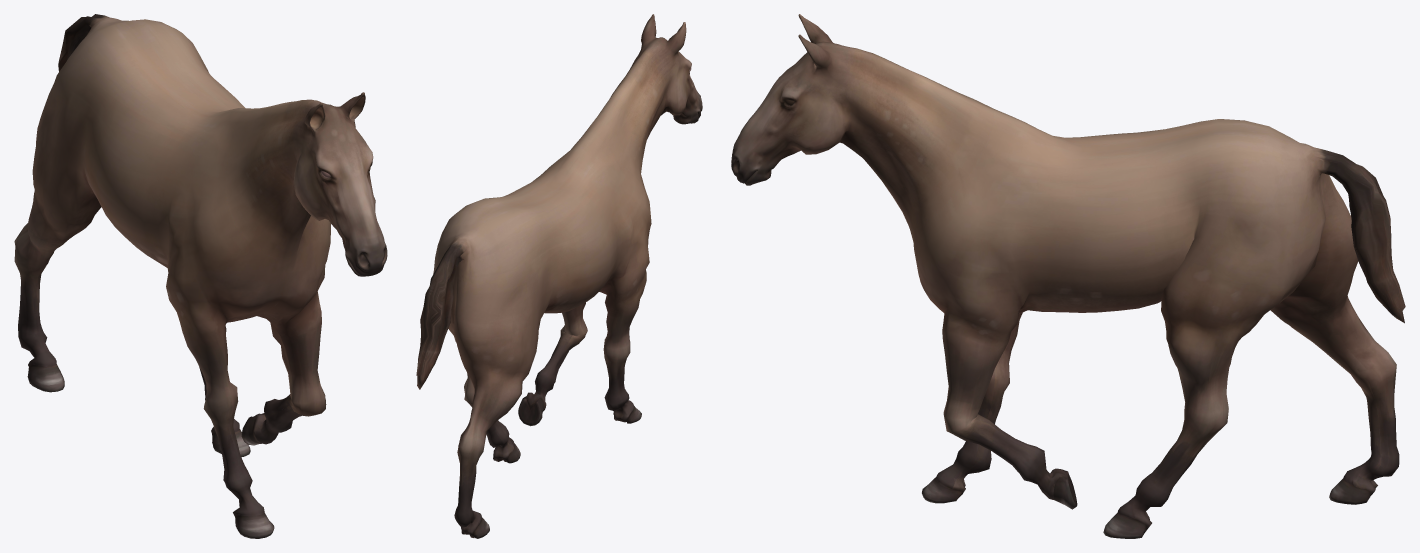
Rendered from horse3.dae.
3 views of the same model, side by side, from view 1: azimuth 30°, elevation 25°; view 2: azimuth 150°, elevation 25°; view 3: azimuth 270°, elevation 25° (orthographic). The views are drawn at different scales.
Visible parts, largest first — view 1: HorseShape; view 2: HorseShape; view 3: HorseShape.
Part boxes in pixels (x1,y1,x2,y2): HorseShape: [14, 14, 387, 538]; HorseShape: [416, 14, 702, 538]; HorseShape: [731, 14, 1405, 538].
Size of what is drawn, in the model's own units: 6.6 by 24.59 by 19.41.
1 material, 1 textured.
